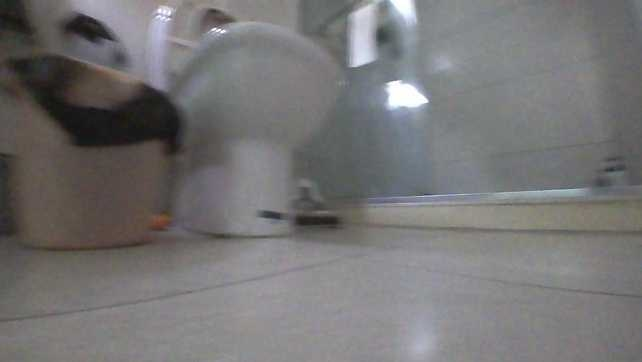toilet: (160, 16, 349, 241)
trash_can: (1, 49, 178, 254)
